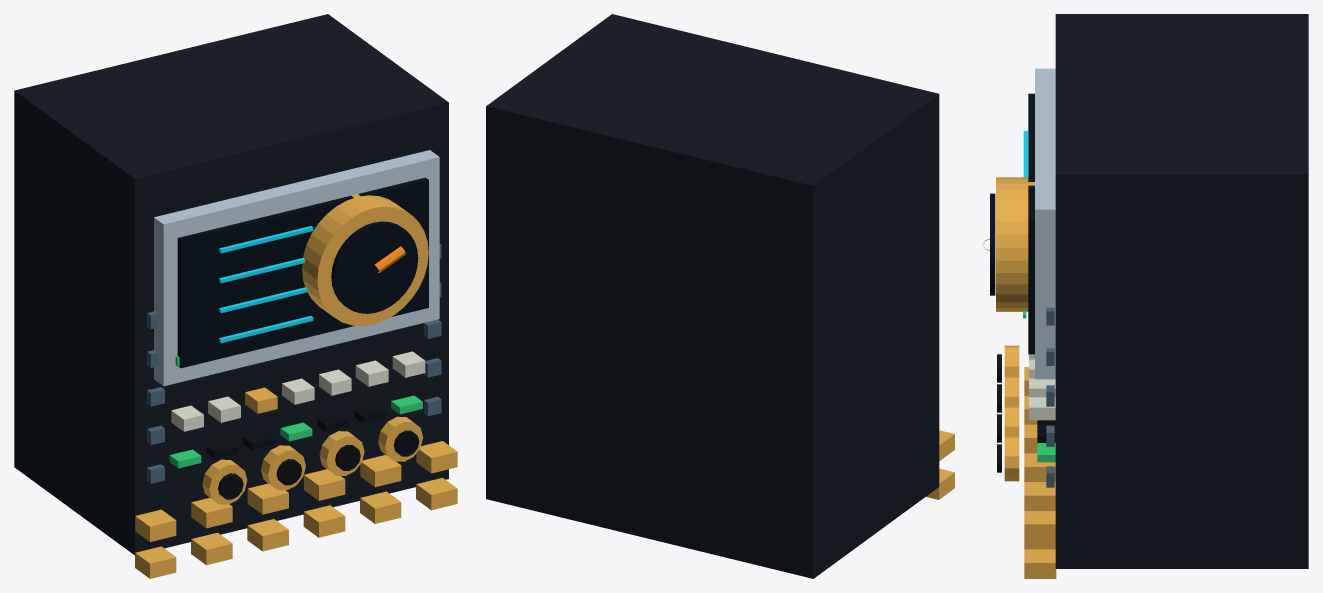
Rendered from 73_L92_CartridgeLeakIntegrityTester.fbx.
3 views of the same model, side by side, from view 1: azimuth 30°, elevation 25°; view 2: azimuth 150°, elevation 25°; view 3: azimuth 270°, elevation 25° (orthographic). The views are drawn at different scales.
Visible parts, largest first — view 1: L92_CartridgeLeakIntegrityTester, L92_CartridgeLeakIntegrityTester_Part_0013, L92_CartridgeLeakIntegrityTester_Part_0011, L92_CartridgeLeakIntegrityTester_Part_0017, L92_CartridgeLeakIntegrityTester_Part_0015; view 2: L92_CartridgeLeakIntegrityTester; view 3: L92_CartridgeLeakIntegrityTester, L92_CartridgeLeakIntegrityTester_Part_0017, L92_CartridgeLeakIntegrityTester_Part_0011, L92_CartridgeLeakIntegrityTester_Part_0013, L92_CartridgeLeakIntegrityTester_Part_0015.
Part boxes in pixels (box(x1,y1,x2,y2)): L92_CartridgeLeakIntegrityTester: box(14, 14, 457, 578); L92_CartridgeLeakIntegrityTester_Part_0013: box(261, 445, 305, 490); L92_CartridgeLeakIntegrityTester_Part_0011: box(202, 459, 247, 504); L92_CartridgeLeakIntegrityTester_Part_0017: box(378, 416, 423, 461); L92_CartridgeLeakIntegrityTester_Part_0015: box(319, 431, 364, 475); L92_CartridgeLeakIntegrityTester: box(486, 14, 954, 578); L92_CartridgeLeakIntegrityTester: box(990, 14, 1308, 578); L92_CartridgeLeakIntegrityTester_Part_0017: box(1004, 435, 1019, 481); L92_CartridgeLeakIntegrityTester_Part_0011: box(1004, 345, 1019, 375); L92_CartridgeLeakIntegrityTester_Part_0013: box(1004, 375, 1019, 405); L92_CartridgeLeakIntegrityTester_Part_0015: box(1004, 405, 1019, 435).
Bounding box in the file's own units: 107 × 127 × 91.8.
